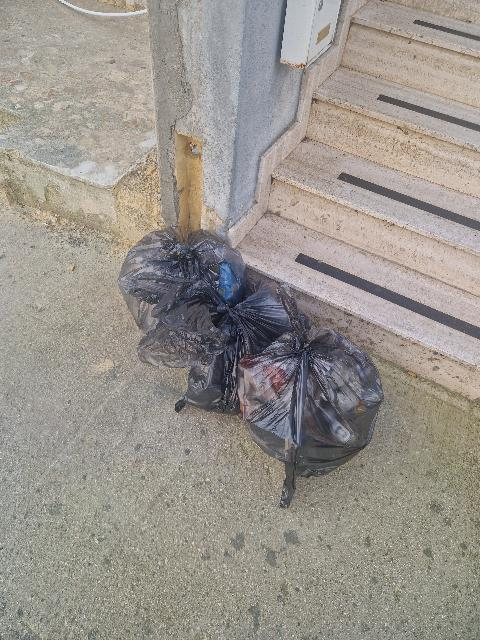Recyclable -Grey-: (236, 283, 383, 508), (138, 280, 293, 415), (118, 226, 245, 333)
